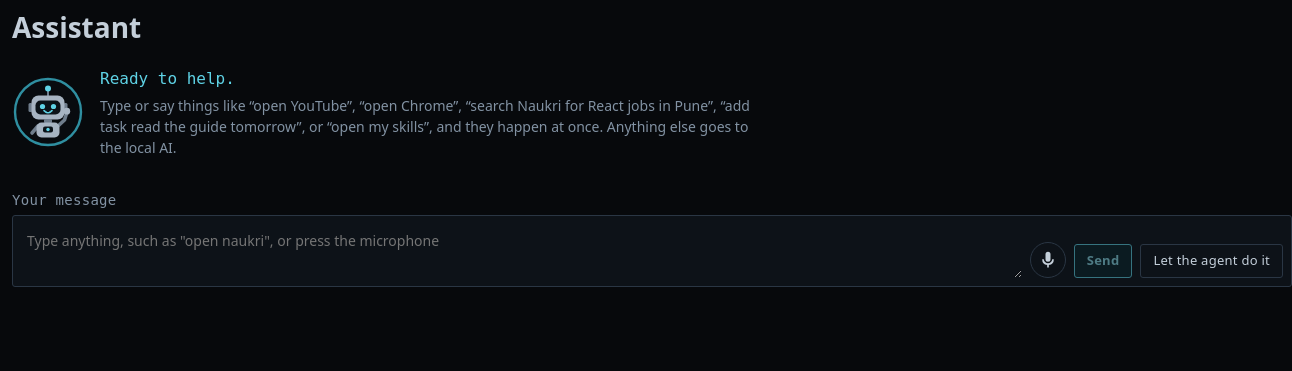
it: the microphone in the chat bar › shows a microphone problem plainly
Step 1. Click the button named "Speak a message or command" → (1048,260), box [1030, 242, 1066, 278]
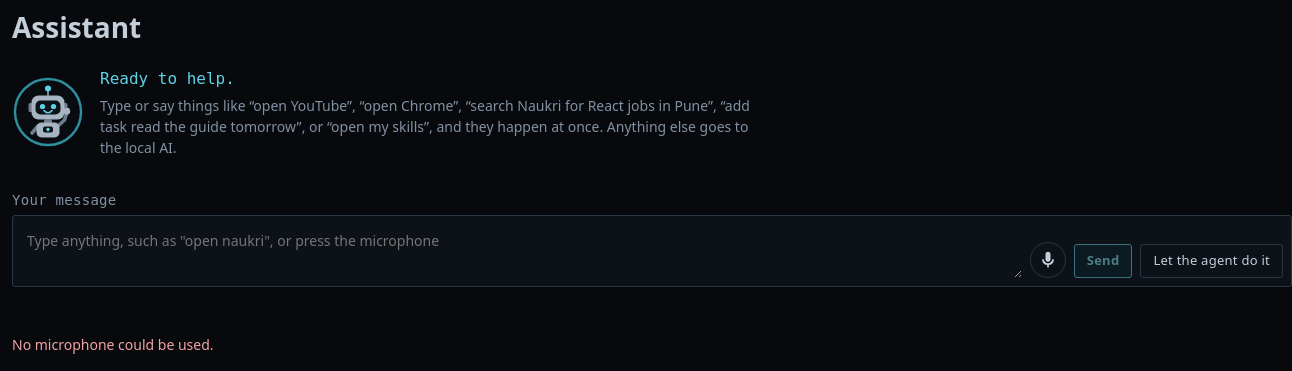
Expected: the message "No microphone could be used." is shown, [12, 334, 214, 354]
